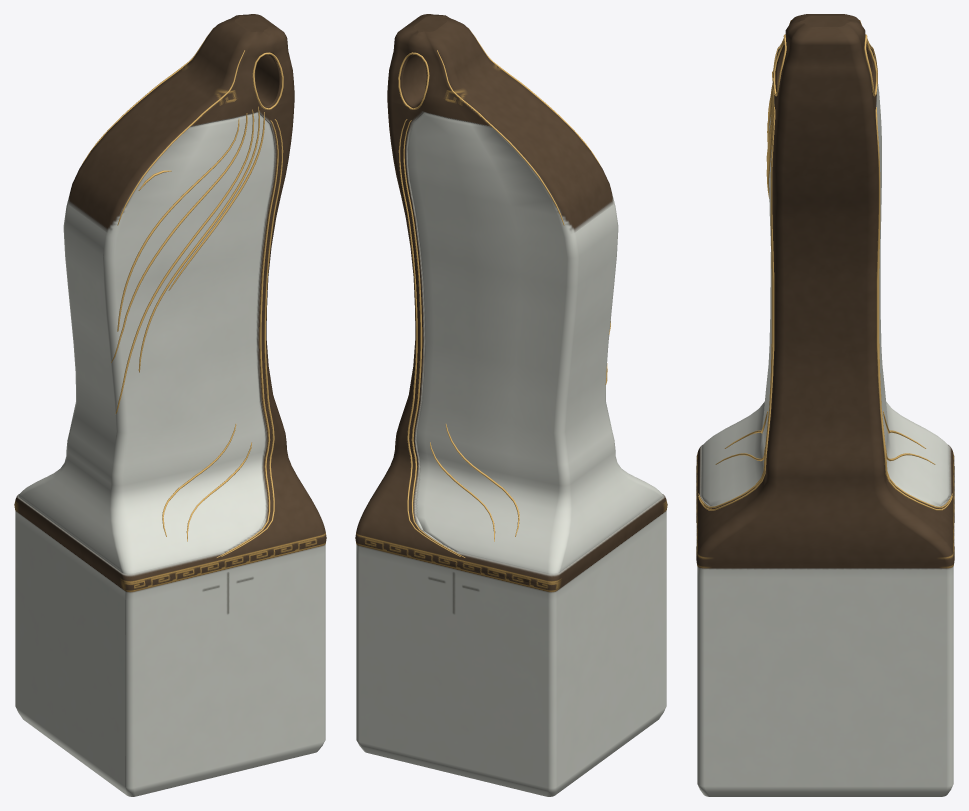
The model's file is QingGuiR02B_LODs.fbx.
The picture shows the model from 3 angles, left to right: view 1: azimuth 30°, elevation 25°; view 2: azimuth 150°, elevation 25°; view 3: azimuth 270°, elevation 25°; orthographic projection. The views are drawn at different scales.
Visible parts, largest first — view 1: QingGuiR02_Body_LOD0, QingGuiR02_GoldWire_LOD0; view 2: QingGuiR02_Body_LOD0, QingGuiR02_GoldWire_LOD0; view 3: QingGuiR02_Body_LOD0, QingGuiR02_GoldWire_LOD0.
Part boxes in pixels (bbox=[...]): QingGuiR02_Body_LOD0: bbox=[14, 14, 326, 796]; QingGuiR02_GoldWire_LOD0: bbox=[82, 28, 283, 557]; QingGuiR02_Body_LOD0: bbox=[355, 14, 667, 796]; QingGuiR02_GoldWire_LOD0: bbox=[398, 28, 610, 557]; QingGuiR02_Body_LOD0: bbox=[696, 14, 954, 796]; QingGuiR02_GoldWire_LOD0: bbox=[698, 20, 952, 510].
Size of what is drawn, in the model's own units: 11 by 35 by 10.68.
